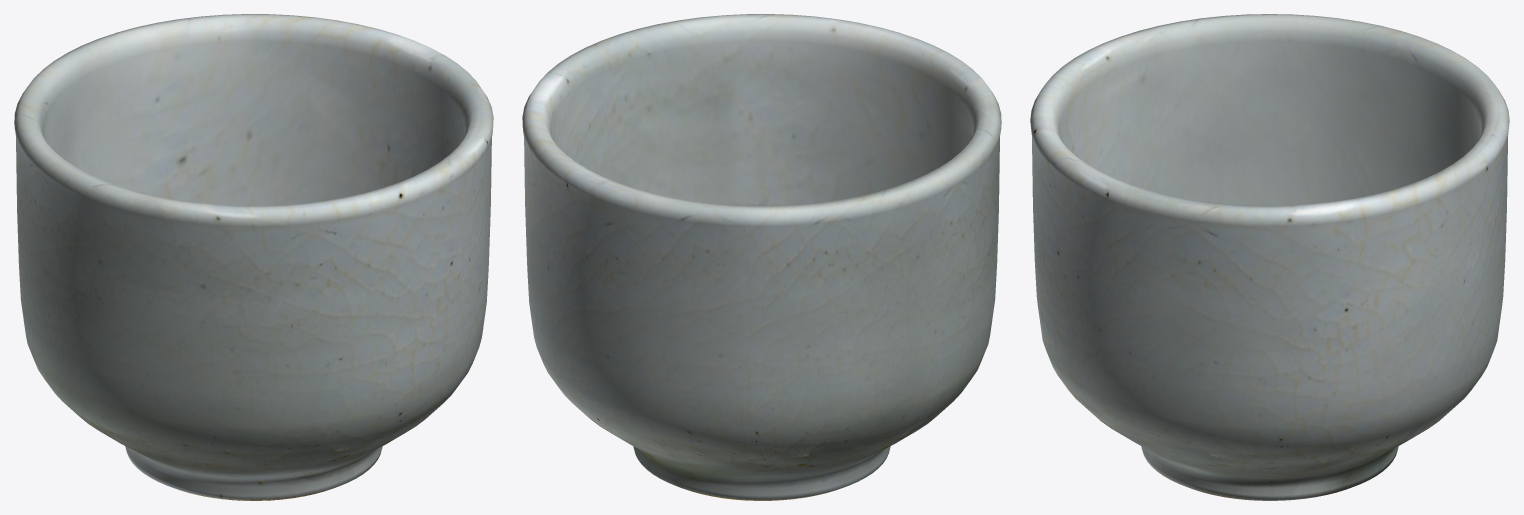
The model's file is unhyun_cup.glb.
3 views of the same model, side by side, from view 1: azimuth 30°, elevation 25°; view 2: azimuth 150°, elevation 25°; view 3: azimuth 270°, elevation 25° (orthographic).
Visible parts, largest first — view 1: SM_WhitePorcelainCup_M_WhitePorcelainCup_0; view 2: SM_WhitePorcelainCup_M_WhitePorcelainCup_0; view 3: SM_WhitePorcelainCup_M_WhitePorcelainCup_0.
Boxes of the visible parts, x1=… form: SM_WhitePorcelainCup_M_WhitePorcelainCup_0: x1=14, y1=14, x2=493, y2=500; SM_WhitePorcelainCup_M_WhitePorcelainCup_0: x1=522, y1=14, x2=1001, y2=500; SM_WhitePorcelainCup_M_WhitePorcelainCup_0: x1=1030, y1=14, x2=1509, y2=500.
Size of the model in its own units: 0.0733 by 0.057 by 0.0733.
1 material, 1 textured.
